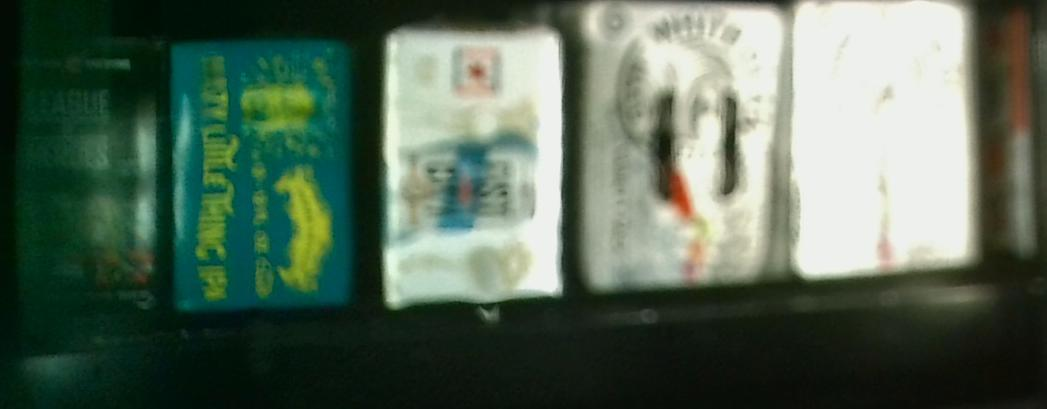bottle: (581, 1, 787, 292), (167, 40, 362, 314), (789, 6, 983, 276), (386, 23, 563, 303), (14, 38, 164, 314)
